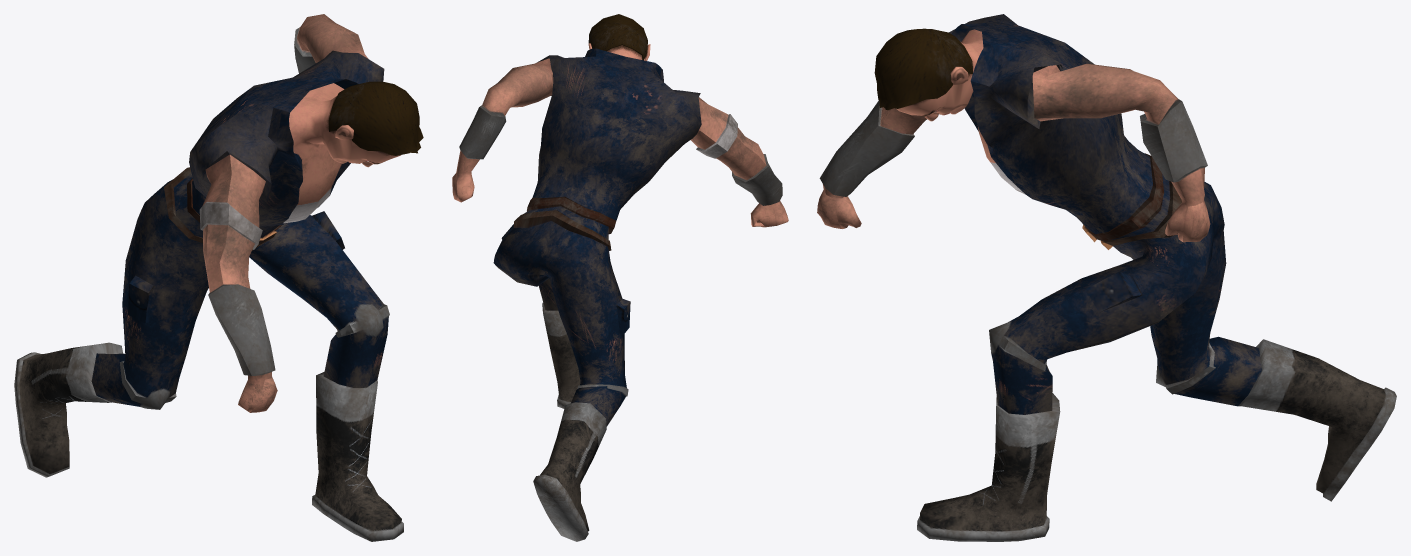
The model's file is Anim_especial_jugador.0028.obj.
3 renders of one model, left to right at view 1: azimuth 30°, elevation 25°; view 2: azimuth 150°, elevation 25°; view 3: azimuth 270°, elevation 25°, orthographic. The views are drawn at different scales.
Parts seen in each view (by area): view 1: polySurface1; view 2: polySurface1; view 3: polySurface1.
Part boxes in pixels (<box>): polySurface1: <box>14,14,423,541</box>; polySurface1: <box>452,14,788,541</box>; polySurface1: <box>817,14,1396,541</box>.
Bounding box in the file's own units: 3.99 × 7.17 × 7.01.
